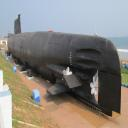submarine: (8, 15, 122, 121)
